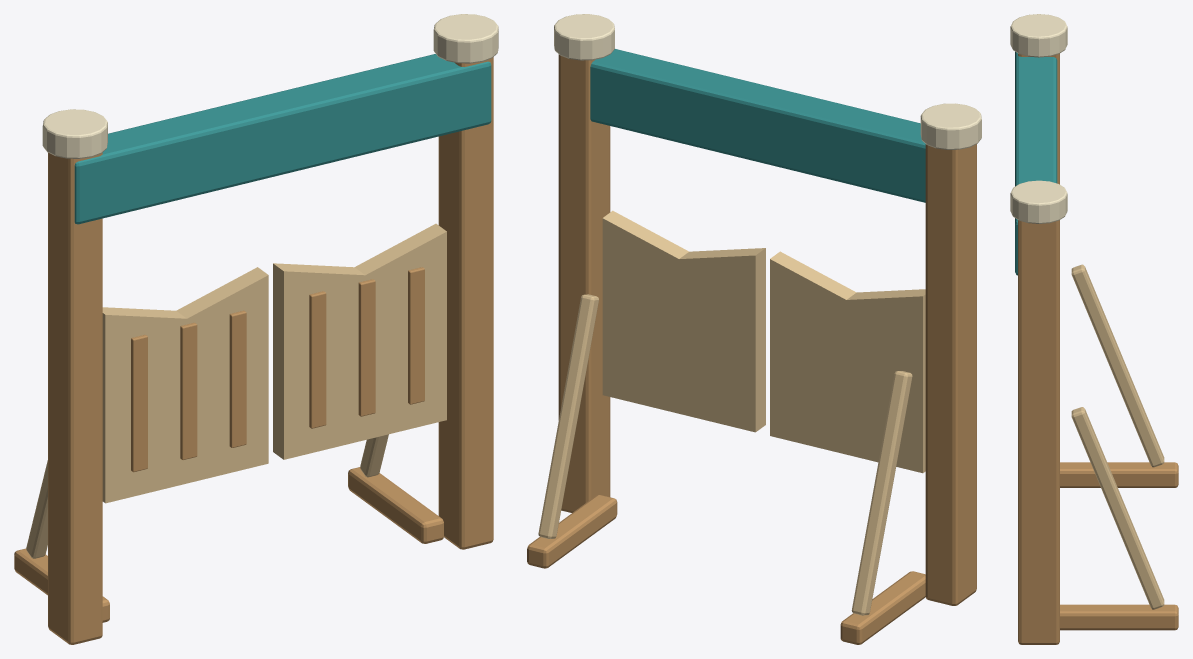
Rendered from S002_saloon_swing_doors.glb.
3 renders of one model, left to right at view 1: azimuth 30°, elevation 25°; view 2: azimuth 150°, elevation 25°; view 3: azimuth 270°, elevation 25°, orthographic. The views are drawn at different scales.
Visible parts, largest first — view 1: saloon_sign, curved_half_door.001, saloon_post, curved_half_door, saloon_post.001, rear_plywood_foot.001, post_cap, post_cap.001, door_vertical_plank.002, door_vertical_plank.003, door_vertical_plank.004, door_vertical_plank.001 (+5 smaller); view 2: curved_half_door.001, saloon_sign, curved_half_door, saloon_post, saloon_post.001, rear_triangular_brace, rear_triangular_brace.001, rear_plywood_foot.001, rear_plywood_foot, post_cap, post_cap.001; view 3: saloon_post.001, saloon_sign, rear_triangular_brace, rear_triangular_brace.001, rear_plywood_foot.001, rear_plywood_foot, post_cap, post_cap.001, saloon_post.
Part boxes in pixels (x1,y1,x2,y2): saloon_sign: (74, 54, 491, 224); curved_half_door.001: (273, 223, 446, 459); saloon_post: (48, 152, 102, 644); curved_half_door: (102, 267, 268, 503); saloon_post.001: (438, 57, 493, 549); rear_plywood_foot.001: (348, 467, 443, 543); post_cap: (42, 109, 107, 158); post_cap.001: (433, 14, 498, 63); door_vertical_plank.002: (229, 310, 246, 447); door_vertical_plank.003: (309, 291, 326, 428); door_vertical_plank.004: (358, 279, 375, 416); door_vertical_plank.001: (180, 322, 197, 459); curved_half_door.001: (602, 210, 765, 432); saloon_sign: (590, 49, 925, 202); curved_half_door: (770, 251, 925, 473); saloon_post: (925, 144, 976, 605); saloon_post.001: (558, 54, 610, 512); rear_triangular_brace: (851, 371, 912, 615); rear_triangular_brace.001: (538, 294, 598, 538); rear_plywood_foot.001: (527, 495, 617, 568); rear_plywood_foot: (840, 571, 925, 644); post_cap: (920, 103, 981, 149); post_cap.001: (554, 14, 614, 60); saloon_post.001: (1018, 220, 1059, 644); saloon_sign: (1015, 51, 1057, 275); rear_triangular_brace: (1071, 264, 1164, 467); rear_triangular_brace.001: (1071, 407, 1164, 609); rear_plywood_foot.001: (1060, 604, 1178, 630); rear_plywood_foot: (1060, 462, 1178, 487); post_cap: (1010, 14, 1067, 57); post_cap.001: (1010, 180, 1067, 223); saloon_post: (1018, 53, 1059, 184).
Size of the model in its own units: 2.36 by 2.58 by 0.88.
